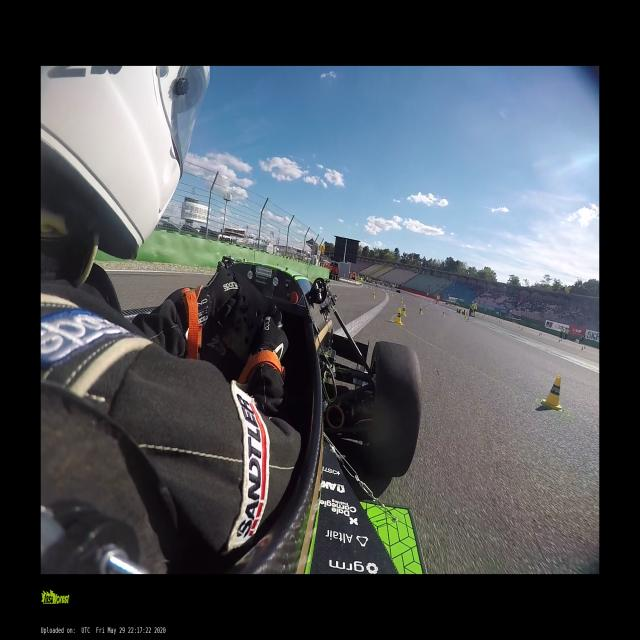yellow_cone: (538, 374, 566, 410), (395, 308, 403, 325), (401, 305, 406, 315), (372, 291, 375, 298), (399, 298, 403, 303), (442, 311, 445, 316), (420, 307, 422, 314), (517, 324, 520, 328), (467, 317, 469, 322), (581, 345, 583, 350), (521, 327, 523, 331), (426, 304, 428, 308), (558, 339, 560, 343), (419, 301, 421, 305), (539, 332, 540, 336)
